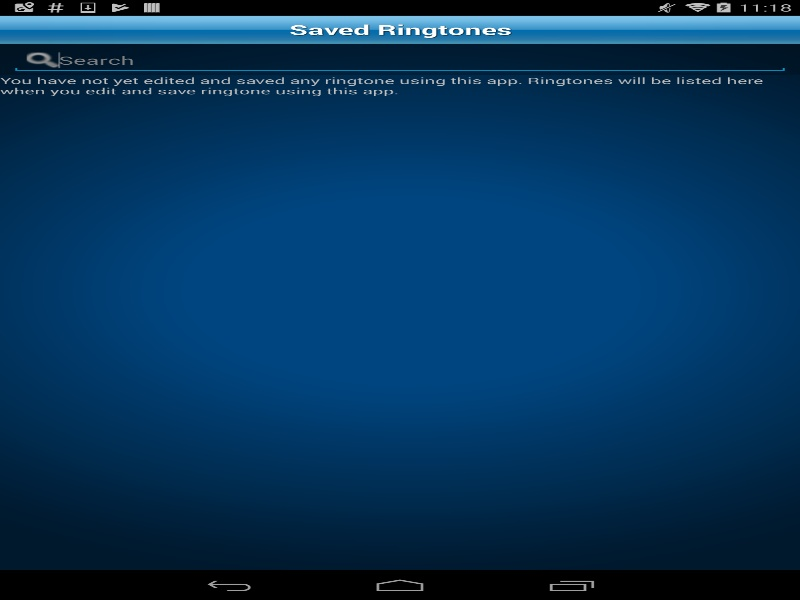Input: (10, 48, 789, 72)
